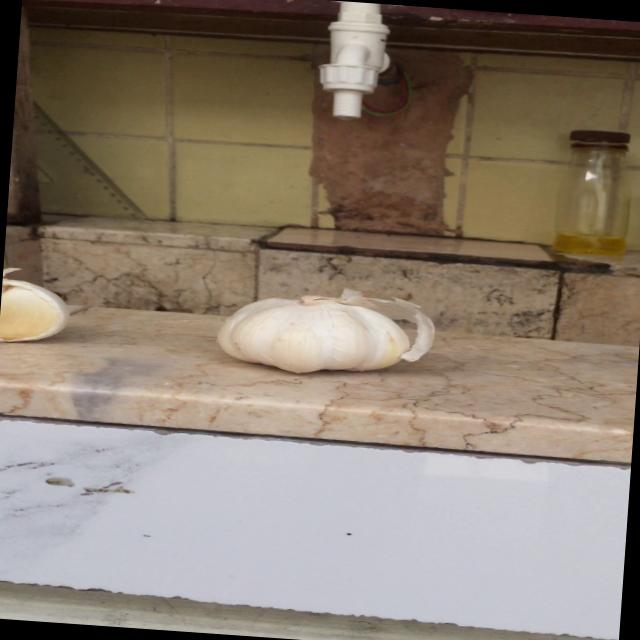garlic: (211, 280, 438, 383)
